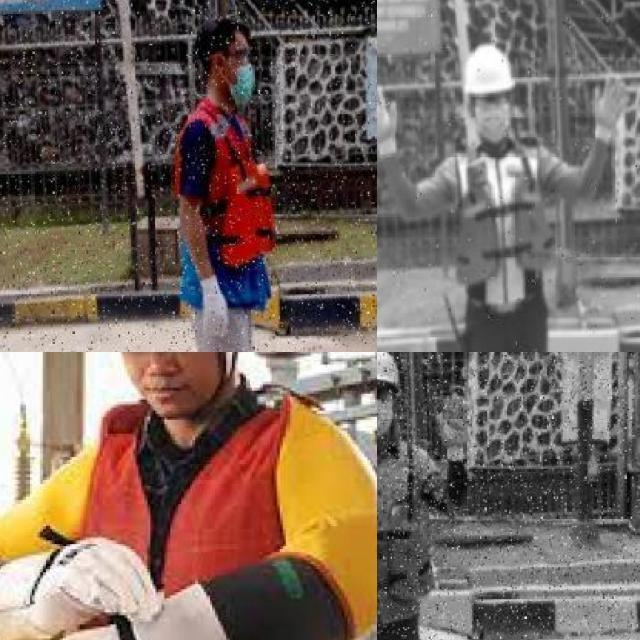apron: (0, 536, 162, 627), (589, 70, 631, 146), (431, 390, 473, 463), (197, 275, 233, 340), (377, 86, 400, 160)
